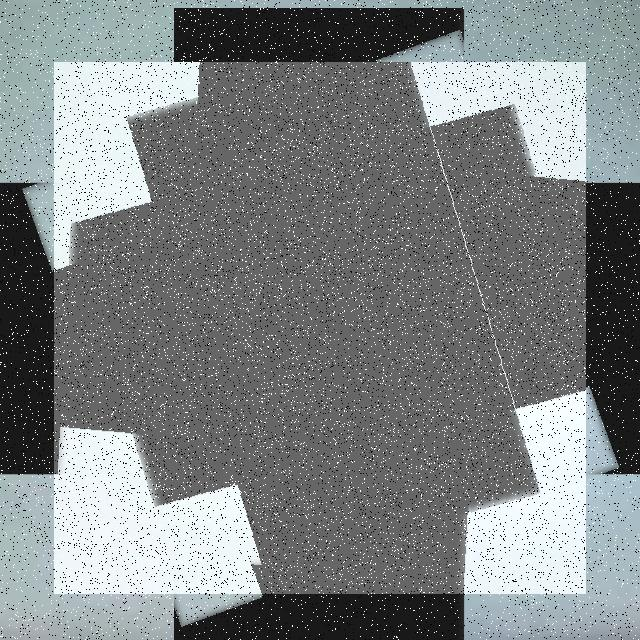lima puluh ribu rupiah: (54, 62, 586, 594)
